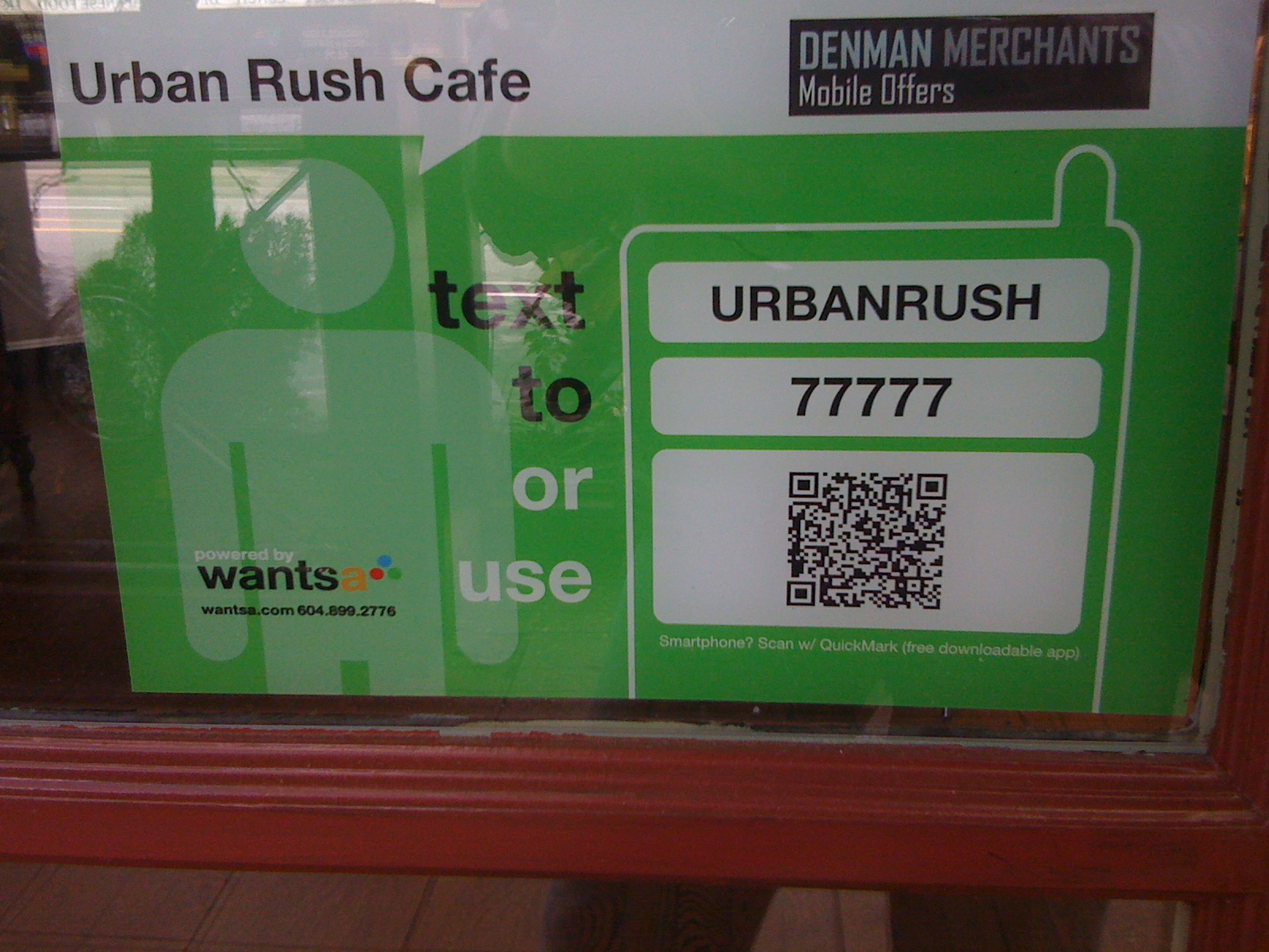QR-CODE: (786, 472, 947, 609)
